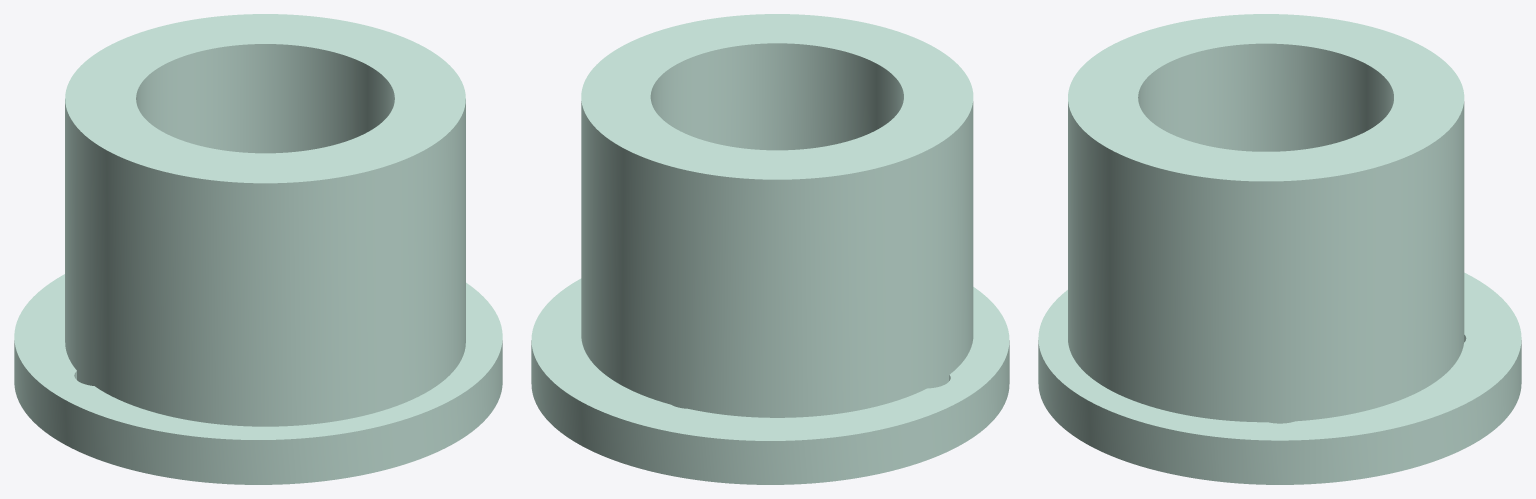
3 renders of one model, left to right at view 1: azimuth 30°, elevation 25°; view 2: azimuth 150°, elevation 25°; view 3: azimuth 270°, elevation 25°, orthographic. The views are drawn at different scales.
Parts seen in each view (by area): view 1: Renderer Node; view 2: Renderer Node; view 3: Renderer Node.
Boxes of the visible parts, x1,y1,x2,y2 form: Renderer Node: (14,14,502,484); Renderer Node: (531,14,1009,484); Renderer Node: (1038,14,1521,484).
Bounding box in the file's own units: 0.9234 × 0.6016 × 0.9237.
